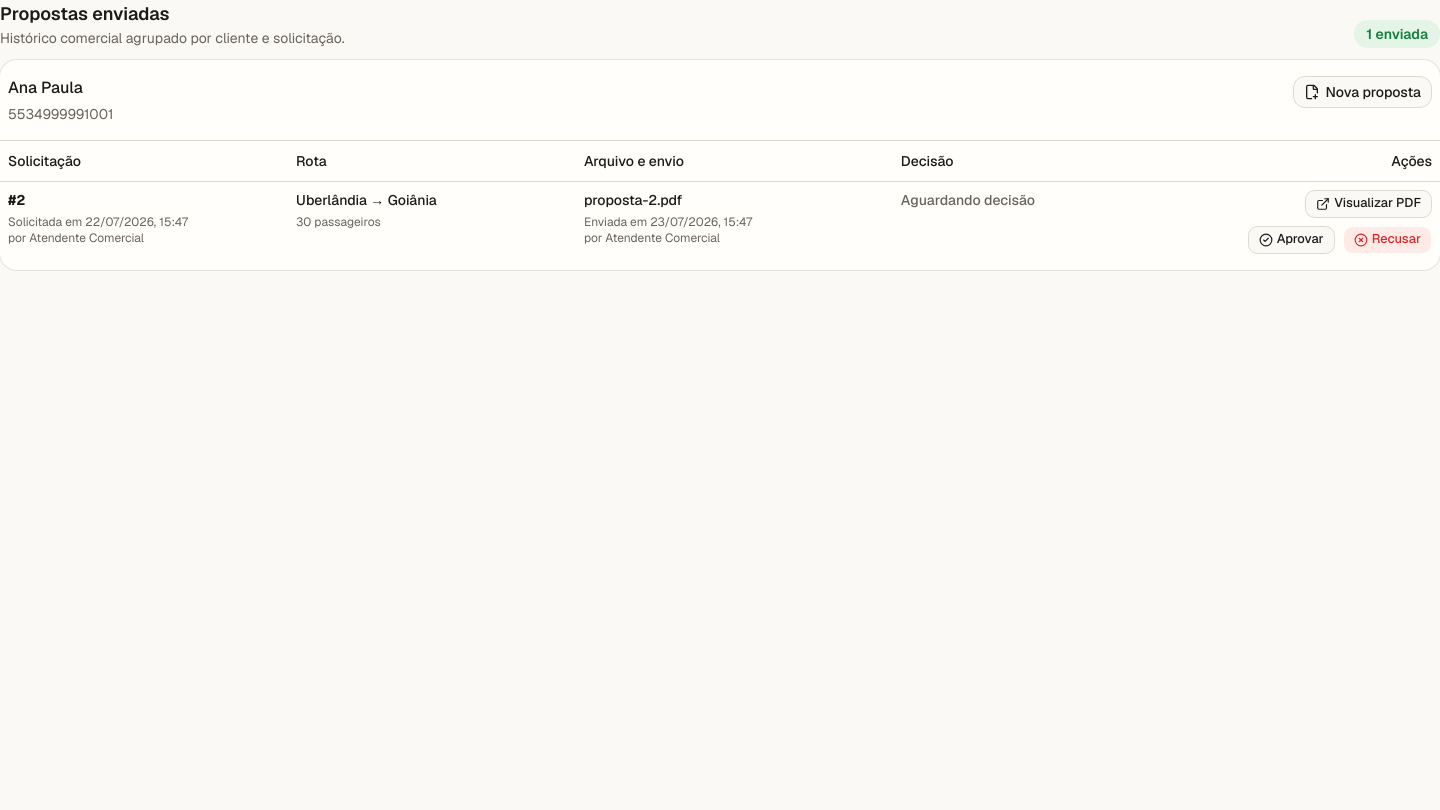
Test case: ProposalHistory › keeps a closed-attendance error inside the new proposal modal
Step 1. Click the button "Nova proposta" → (1362, 92), box [1292,76,1432,108]
(page scrolled)
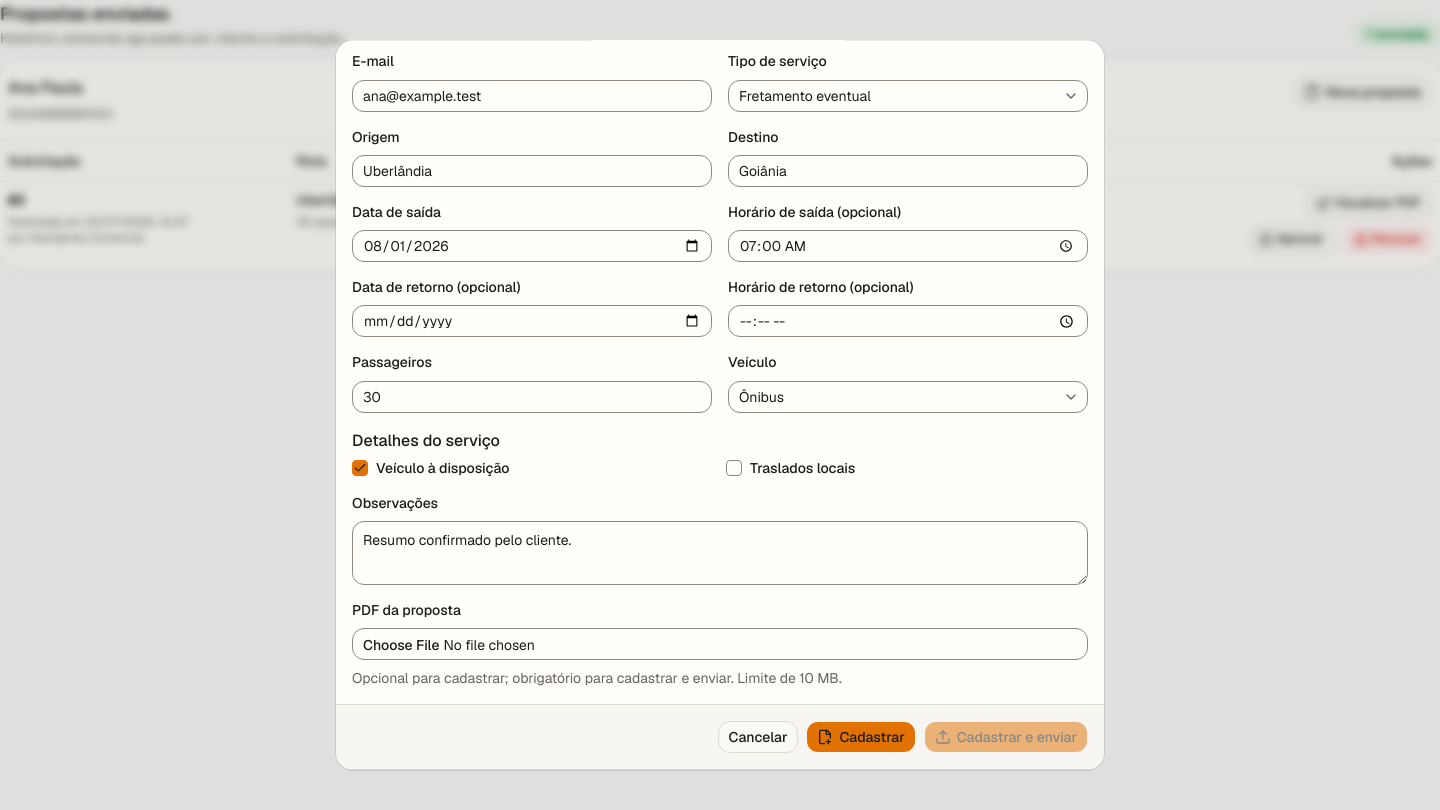
Step 2. Click the button "Cadastrar" → (861, 738), box [806,722,916,754]
(page scrolled)
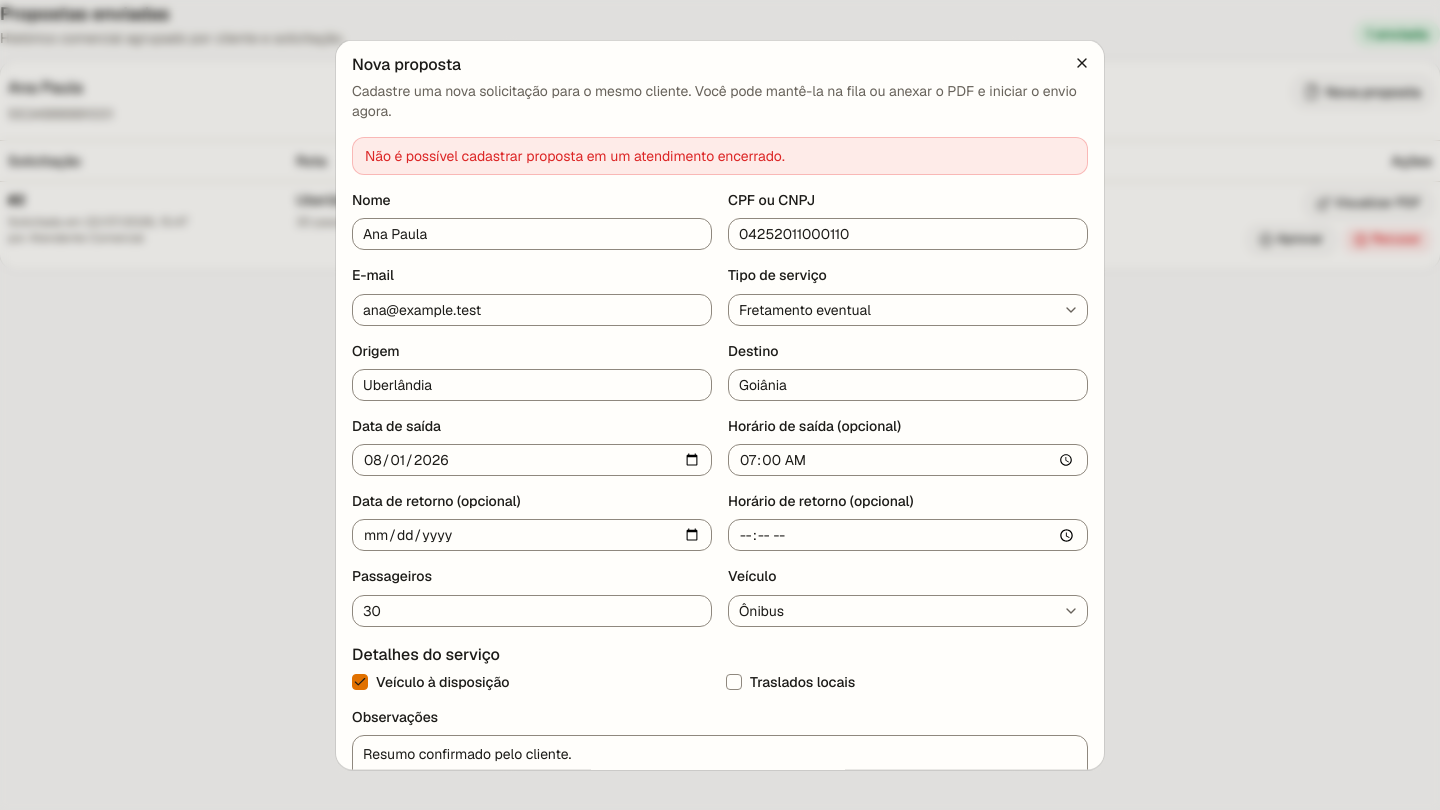
Check: the message reads "Não é possível cadastrar proposta em um atendimento encerrado.", box [365,146,785,164]
